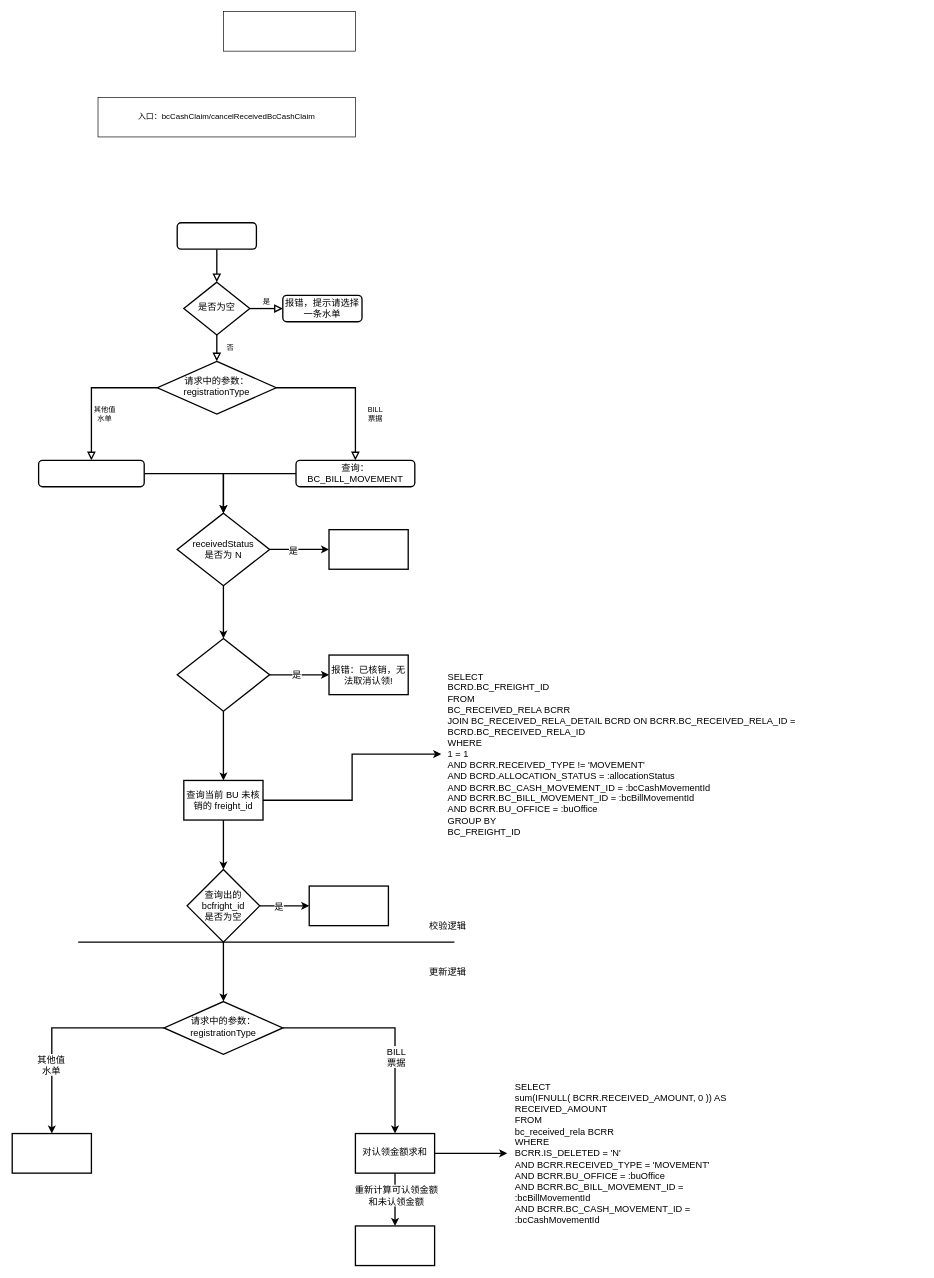
Image size: 934x1278. Some labels were removed from this diagram. Each missing label, with the box of its shape:
allocationStatus 是否为 Y: (176, 638, 270, 711)
报错：当前BU没有认领费用，不能取消认领！: (308, 885, 389, 926)
报错：未认领，无需取消认领!: (328, 529, 409, 570)
收款认领 -> 登记类型(票据): (223, 11, 355, 51)
查询： BC_CASH_MOVEMENT: (38, 459, 145, 487)
请求参数中的：bcCashMovementId: (176, 222, 257, 249)
